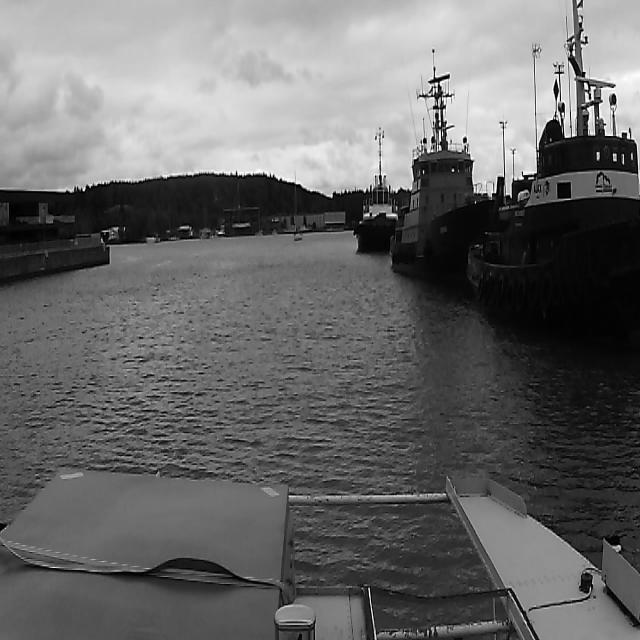ship: (470, 0, 640, 346), (392, 46, 470, 294), (353, 126, 395, 260), (294, 170, 302, 242)
